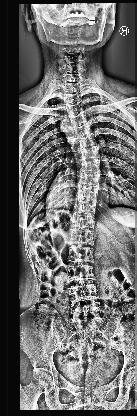Vertebrae: (68, 248, 96, 264), (69, 286, 99, 300), (68, 230, 94, 246), (68, 266, 97, 280), (72, 306, 100, 320), (70, 214, 96, 228), (76, 185, 98, 199), (67, 113, 89, 126), (74, 126, 96, 138), (74, 200, 96, 212), (80, 159, 101, 171), (64, 104, 84, 116), (80, 147, 100, 159), (80, 172, 100, 184), (63, 82, 82, 94), (76, 136, 98, 146), (63, 94, 83, 104)
